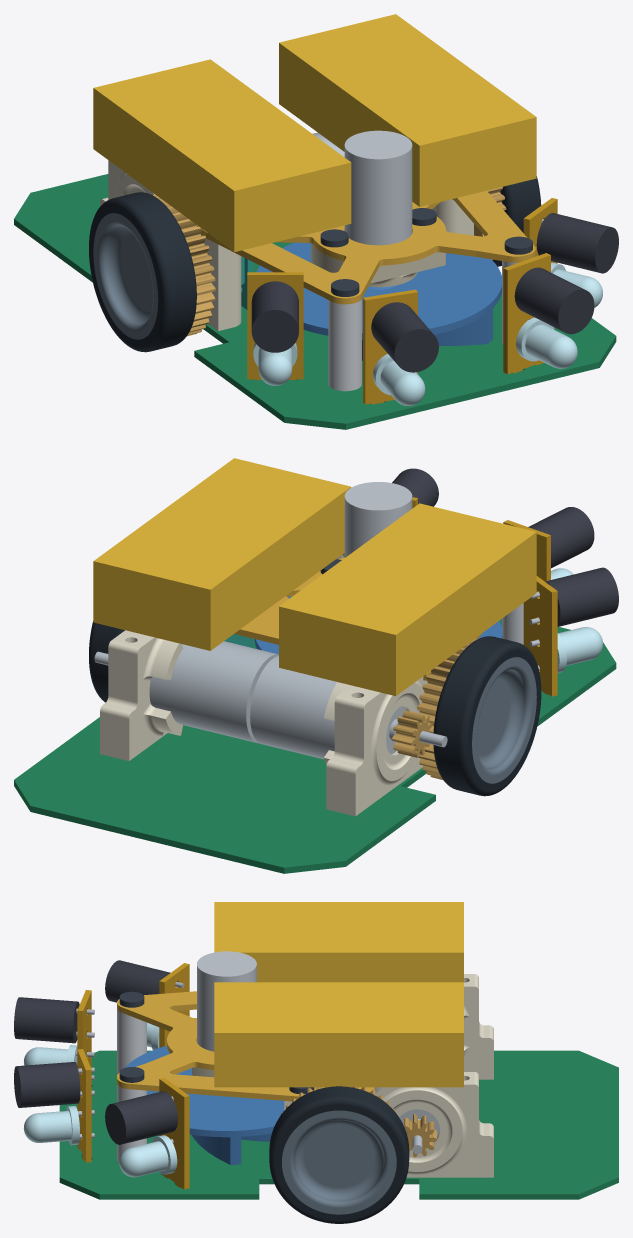
Rendered from assembly-a09.glb.
3 views of the same model, one above another, from view 1: azimuth 30°, elevation 25°; view 2: azimuth 150°, elevation 25°; view 3: azimuth 270°, elevation 25° (orthographic). The views are drawn at different scales.
Visible parts, largest first — view 1: 064_battery, 065_battery, 063_pcb, upper_plate, 062_fan, 003_tire, 060_fan_motor, 002_wheel, side_right_ir_receiver, front_right_ir_receiver, 027_mount, front_left_ir_receiver (+14 smaller); view 2: 063_pcb, 064_battery, 065_battery, 027_mount, 030_motor, 003_tire, 059_mount, 000_motor, 002_wheel, 060_fan_motor, side_left_ir_receiver, side_left_pcb (+9 smaller); view 3: 063_pcb, 065_battery, 064_battery, 032_wheel, 059_mount, upper_plate, 033_tire, 062_fan, 060_fan_motor, side_right_ir_receiver, front_right_ir_receiver, front_left_ir_receiver (+13 smaller).
Boxes of the visible parts, box(x1,y1,x2,y2) form: 064_battery: box(93, 59, 351, 252); 065_battery: box(279, 14, 536, 206); 063_pcb: box(14, 174, 616, 429); upper_plate: box(196, 190, 535, 304); 062_fan: box(256, 242, 501, 360); 003_tire: box(89, 192, 196, 352); 060_fan_motor: box(344, 130, 412, 245); 002_wheel: box(93, 213, 158, 339); side_right_ir_receiver: box(536, 213, 618, 273); front_right_ir_receiver: box(514, 267, 594, 334); 027_mount: box(100, 160, 241, 330); front_left_ir_receiver: box(371, 302, 438, 372); 063_pcb: box(14, 619, 616, 873); 064_battery: box(279, 503, 536, 696); 065_battery: box(93, 458, 351, 650); 027_mount: box(324, 676, 427, 816); 030_motor: box(94, 641, 278, 743); 003_tire: box(433, 636, 541, 796); 059_mount: box(100, 630, 182, 760); 000_motor: box(250, 656, 447, 759); 002_wheel: box(472, 657, 536, 783); 060_fan_motor: box(344, 482, 412, 557); side_left_ir_receiver: box(545, 567, 618, 626); side_left_pcb: box(523, 576, 557, 696); 063_pcb: box(59, 1050, 618, 1199); 065_battery: box(214, 982, 463, 1087); 064_battery: box(214, 902, 463, 982); 032_wheel: box(282, 1110, 396, 1214); 059_mount: box(284, 1072, 493, 1177); upper_plate: box(117, 991, 374, 1101); 033_tire: box(269, 1086, 409, 1223); 062_fan: box(124, 1046, 284, 1164); 060_fan_motor: box(197, 951, 256, 1051); side_right_ir_receiver: box(105, 1091, 177, 1144); front_right_ir_receiver: box(14, 1062, 80, 1107); front_left_ir_receiver: box(14, 997, 79, 1043).
Size of the model in its own units: 38.8 by 19.88 by 60.56.
